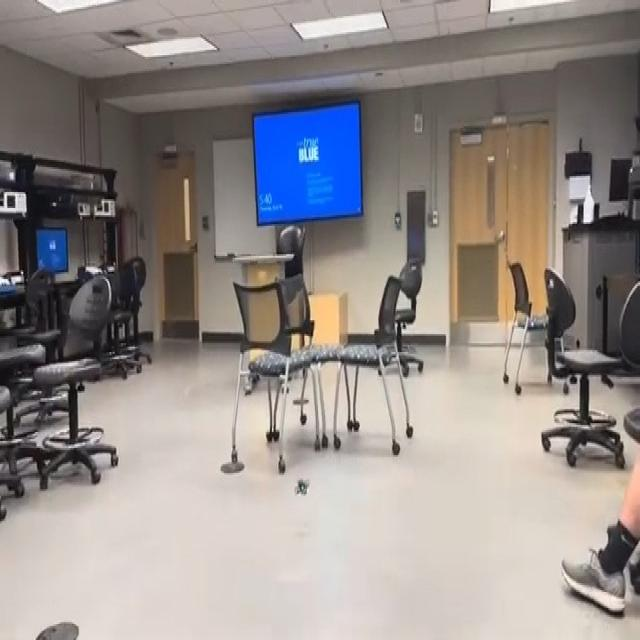drone: (286, 459, 322, 518)
